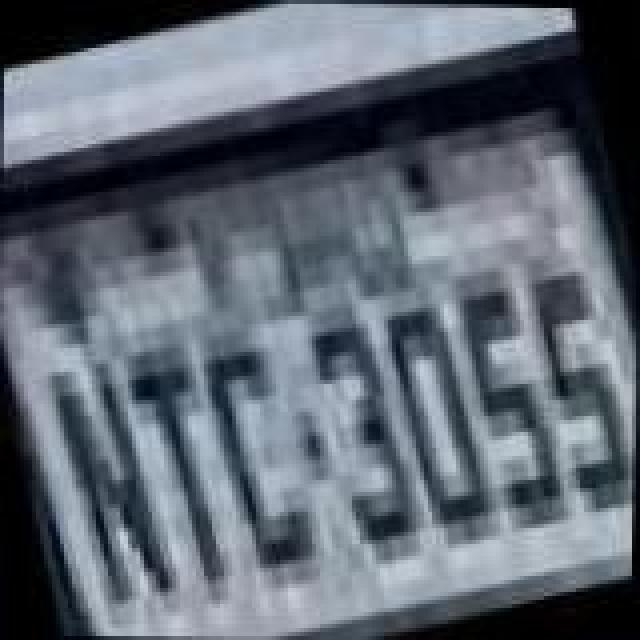3: (294, 296, 434, 556)
5: (440, 264, 576, 540), (514, 258, 638, 526)
C: (198, 334, 330, 582)
N: (42, 342, 190, 626)
O: (368, 284, 504, 548)
T: (122, 342, 254, 610)
